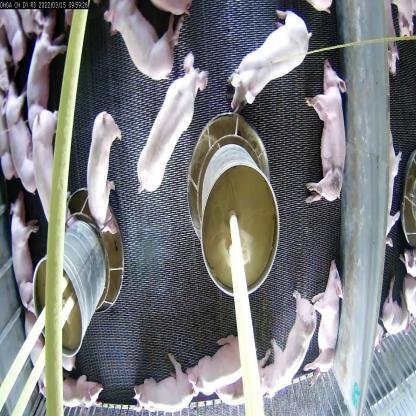Pig: (135, 61, 210, 192), (230, 7, 310, 118), (110, 0, 187, 90), (302, 62, 346, 208), (264, 296, 319, 398), (30, 105, 68, 244), (85, 105, 121, 233), (186, 330, 254, 396), (0, 87, 42, 192), (128, 356, 198, 416), (309, 264, 346, 375), (26, 10, 62, 123), (3, 203, 38, 310), (216, 363, 288, 415), (36, 361, 103, 412)
